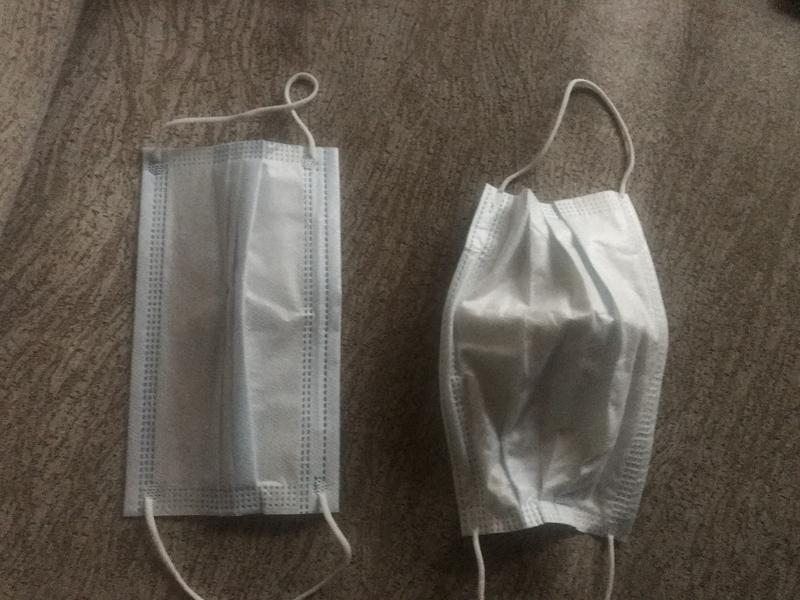medical_mask: (437, 77, 670, 600), (125, 71, 354, 600)
